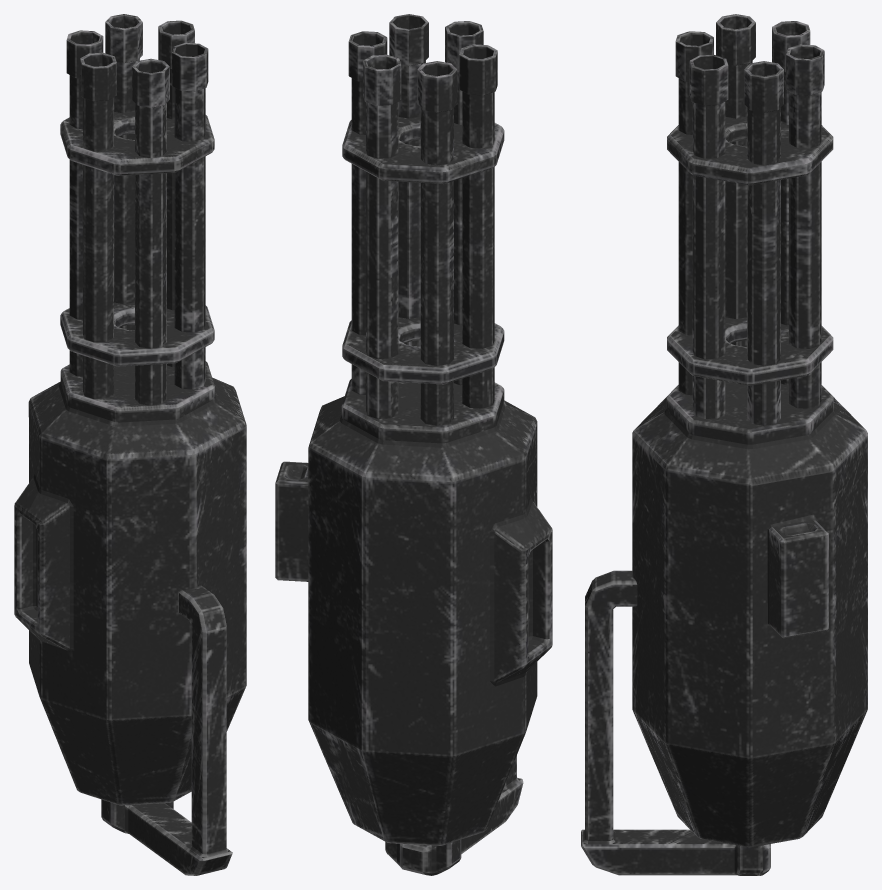
File: Minigun.fbx
3 renders of one model, left to right at view 1: azimuth 30°, elevation 25°; view 2: azimuth 150°, elevation 25°; view 3: azimuth 270°, elevation 25°, orthographic. The views are drawn at different scales.
Visible parts, largest first — view 1: mg_body.001, barrels.001, mg_arm.001, mg_barrels_sup.001; view 2: mg_body.001, barrels.001, mg_barrels_sup.001, mg_arm.001; view 3: mg_body.001, barrels.001, mg_arm.001, mg_barrels_sup.001.
Part boxes in pixels (<box>): mg_body.001: <box>14,361,246,805</box>; barrels.001: <box>66,14,208,405</box>; mg_arm.001: <box>101,585,232,875</box>; mg_barrels_sup.001: <box>60,111,214,366</box>; mg_body.001: <box>275,379,552,845</box>; barrels.001: <box>348,14,497,425</box>; mg_barrels_sup.001: <box>342,116,504,384</box>; mg_arm.001: <box>385,755,523,875</box>; mg_body.001: <box>632,381,867,847</box>; barrels.001: <box>675,14,824,425</box>; mg_arm.001: <box>581,570,770,875</box>; mg_barrels_sup.001: <box>667,116,833,385</box>.
Size of the model in its own units: 4.13 by 13.48 by 4.26.
